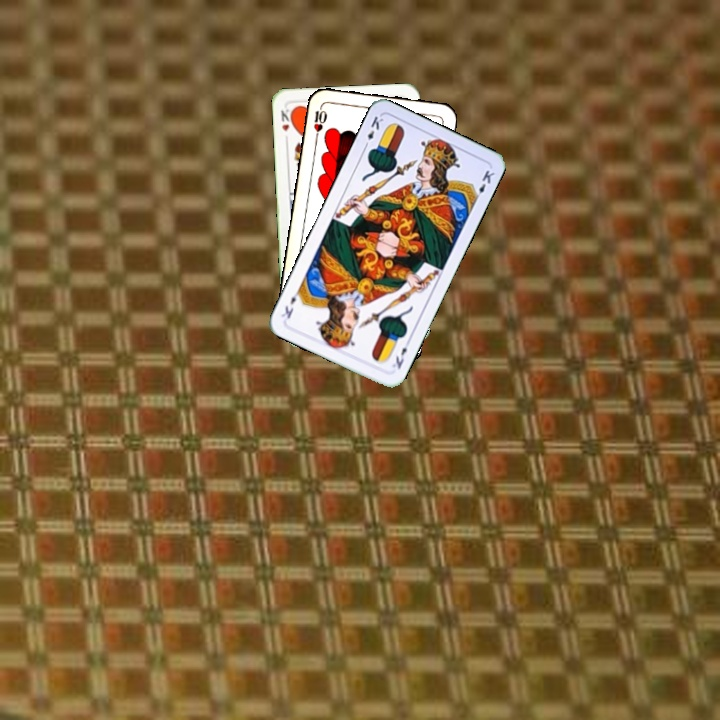EK: (360, 112, 386, 151), (388, 336, 413, 372)
H10: (310, 101, 330, 141)
HK: (277, 103, 296, 133)
